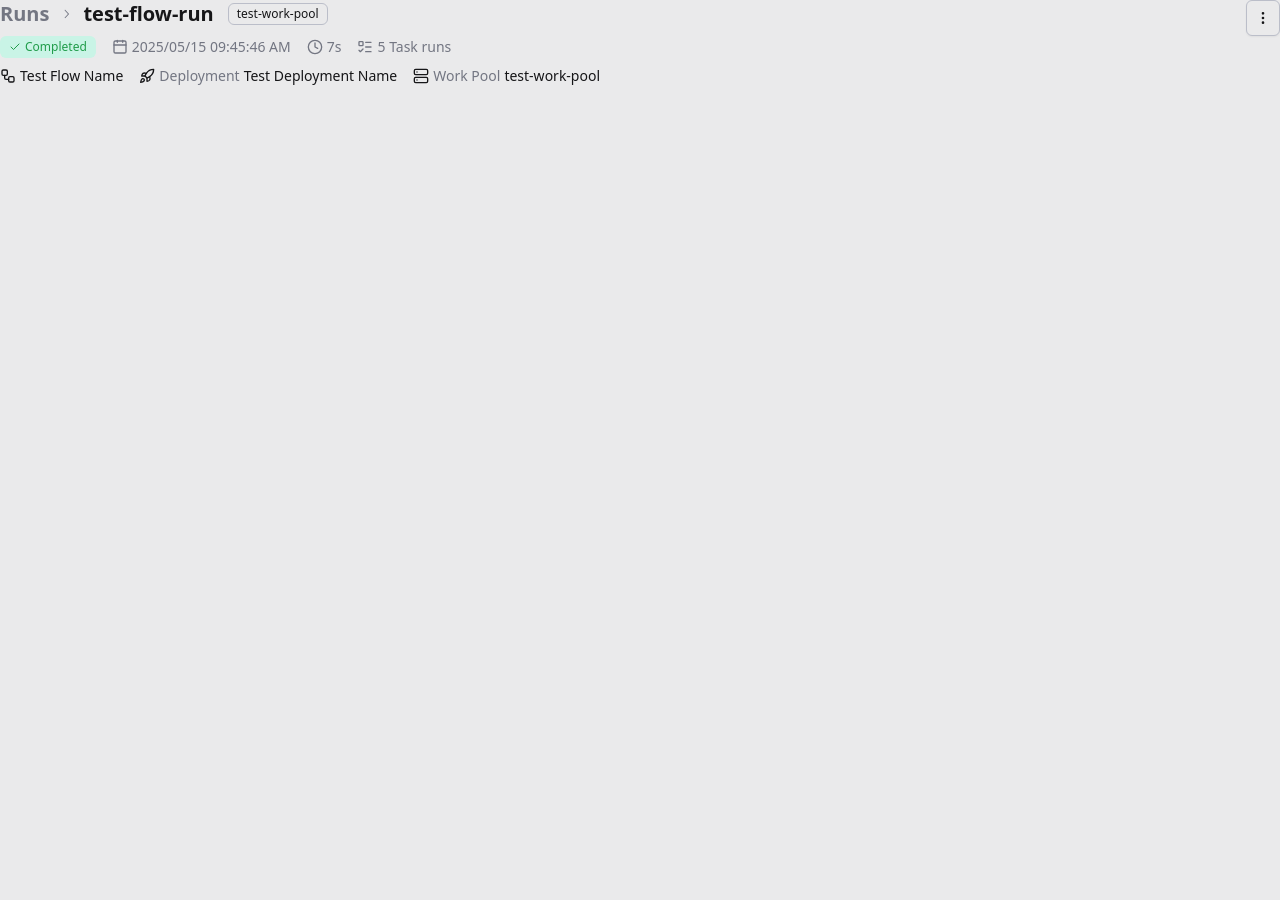
Test: FlowRunHeader › opens delete confirmation dialog when Delete is clicked
The width and height of the screenshot is (1280, 900).
Expected: the text "test-flow-run" is shown, [83,0,214,28]
Click the button at (1263, 18), box [1246,0,1279,36]
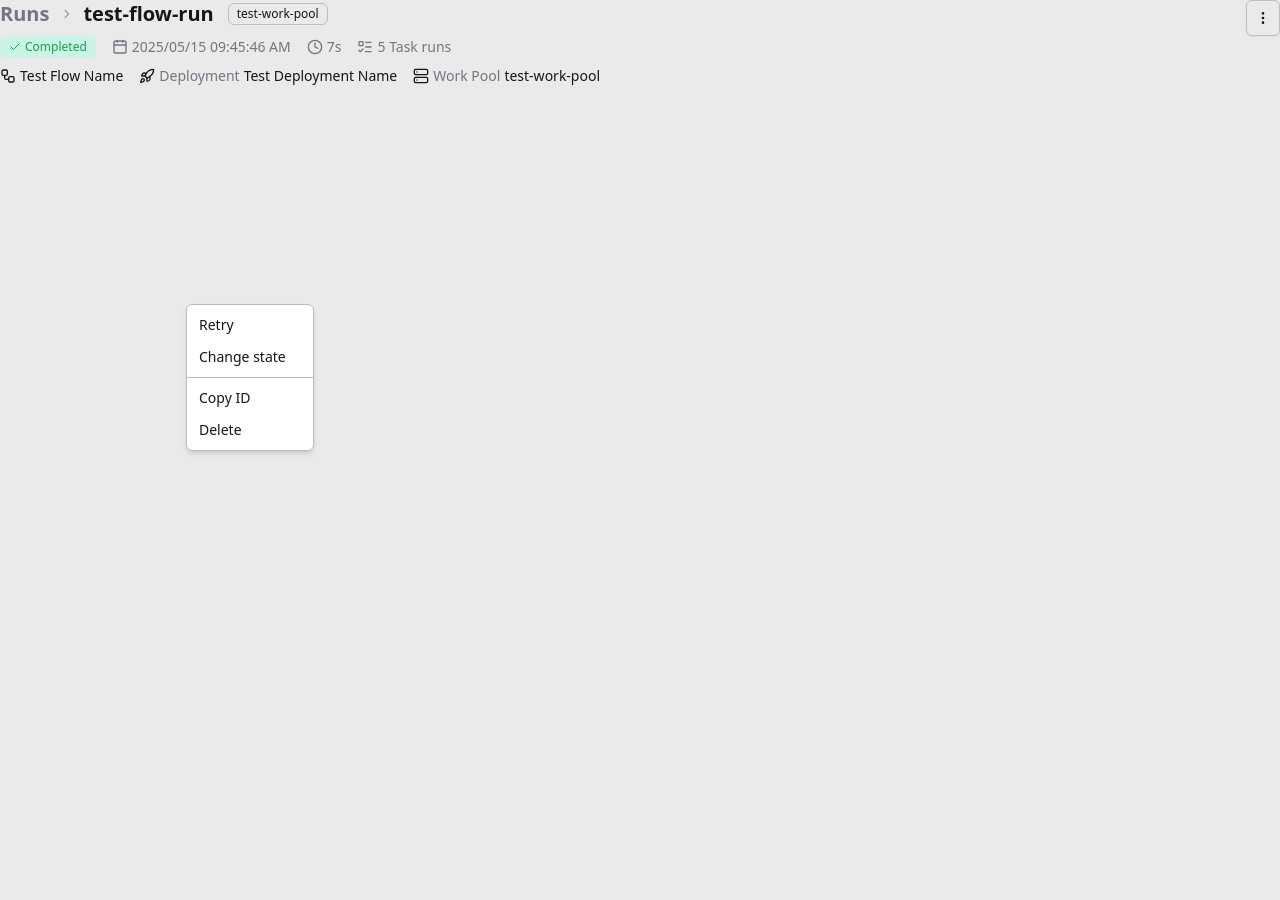
Expected: the menu item "Delete" is shown
Click the menu item "Delete" at (220, 430), box [199,420,242,439]
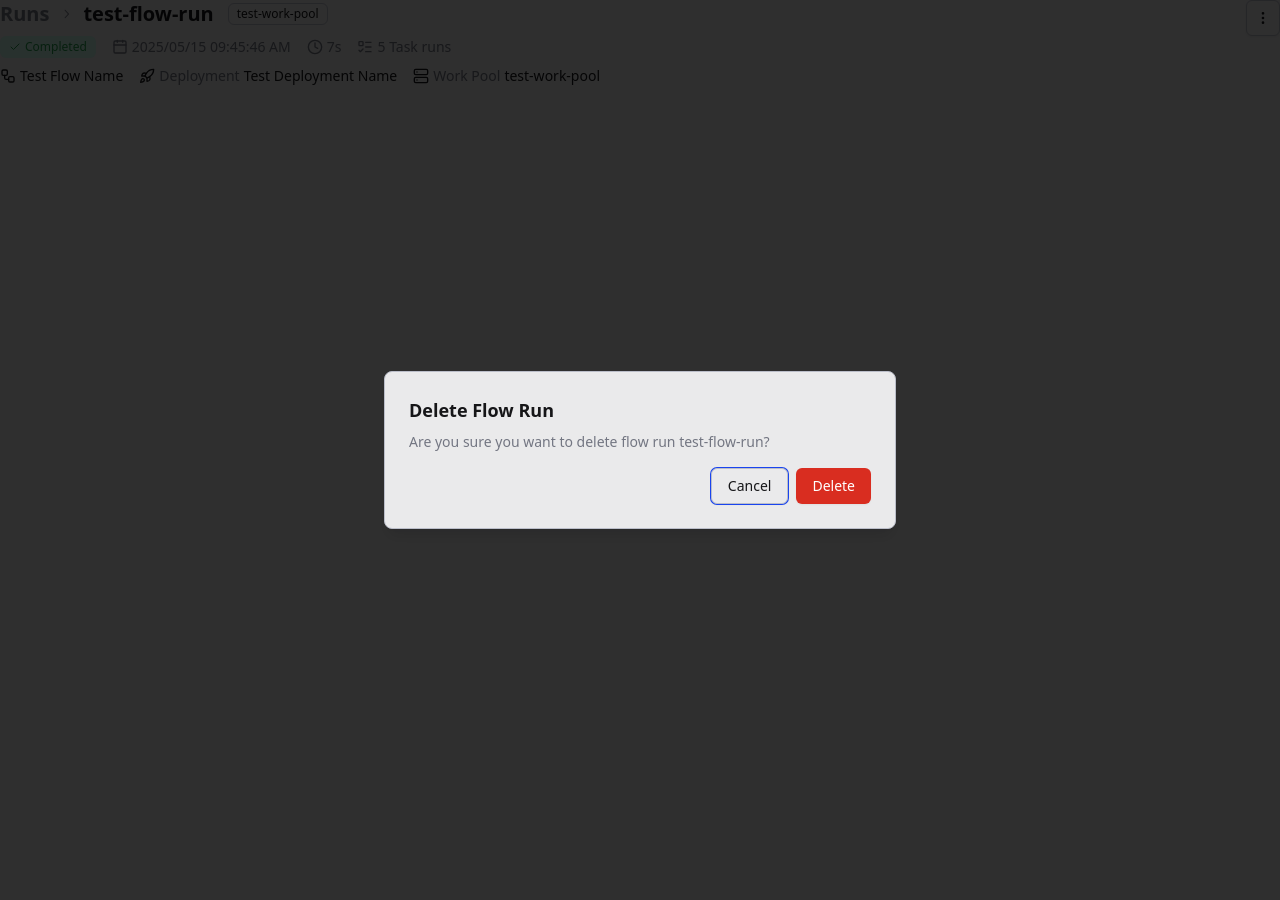
Expected: the heading "Delete Flow Run" is shown, [409,398,554,422]
